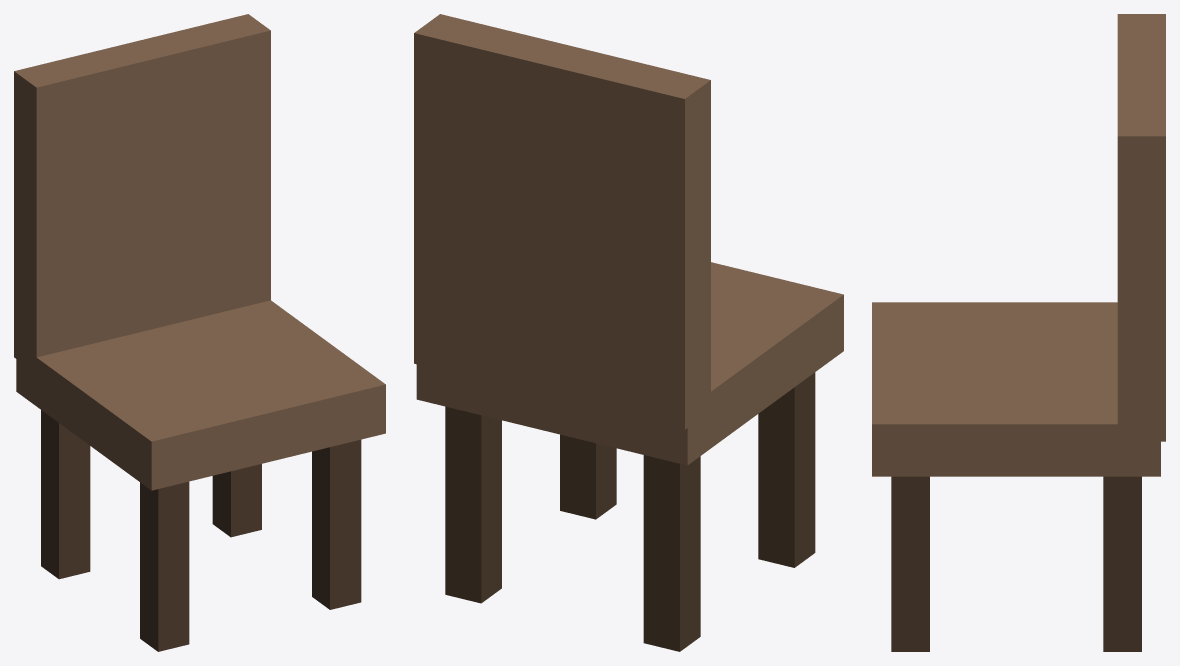
File: room_chair.glb
The picture shows the model from 3 angles, left to right: view 1: azimuth 30°, elevation 25°; view 2: azimuth 150°, elevation 25°; view 3: azimuth 270°, elevation 25°; orthographic projection. The views are drawn at different scales.
Visible parts, largest first — view 1: back, seat, leg.004, leg.006, leg.005, leg.007; view 2: back, seat, leg.005, leg.007, leg.004, leg.006; view 3: seat, back, leg.006, leg.007.
Boxes of the visible parts, <box> form: back: <box>14,14,270,373</box>; seat: <box>16,300,385,490</box>; leg.004: <box>140,481,189,651</box>; leg.006: <box>312,439,361,609</box>; leg.005: <box>41,410,90,579</box>; leg.007: <box>212,464,261,537</box>; back: <box>414,14,710,429</box>; seat: <box>416,262,843,465</box>; leg.005: <box>643,455,700,651</box>; leg.007: <box>445,406,501,603</box>; leg.004: <box>758,372,815,567</box>; leg.006: <box>560,434,616,519</box>; seat: <box>872,302,1160,476</box>; back: <box>1117,14,1165,441</box>; leg.006: <box>891,476,929,651</box>; leg.007: <box>1103,476,1141,651</box>.
Size of the model in its own units: 0.6 by 1.2 by 0.61.
